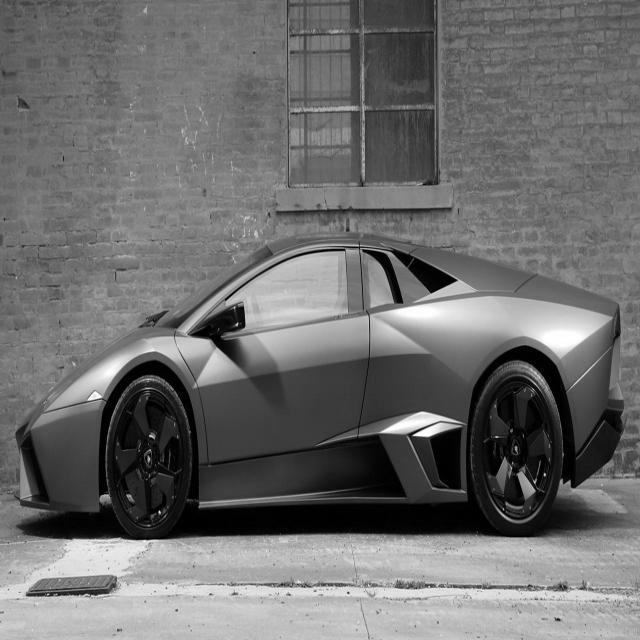Sedan: (16, 234, 626, 541)
